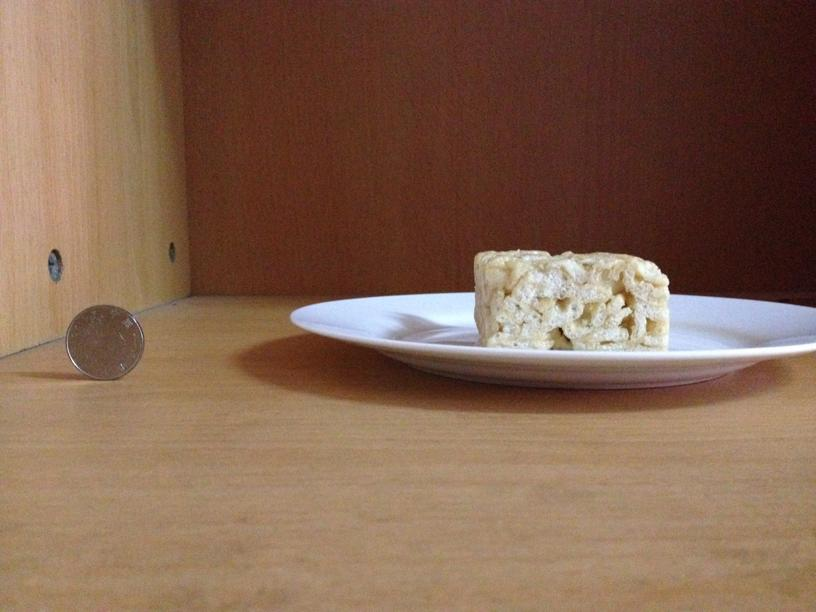coin: (62, 306, 144, 380)
sachima: (472, 249, 671, 349)
